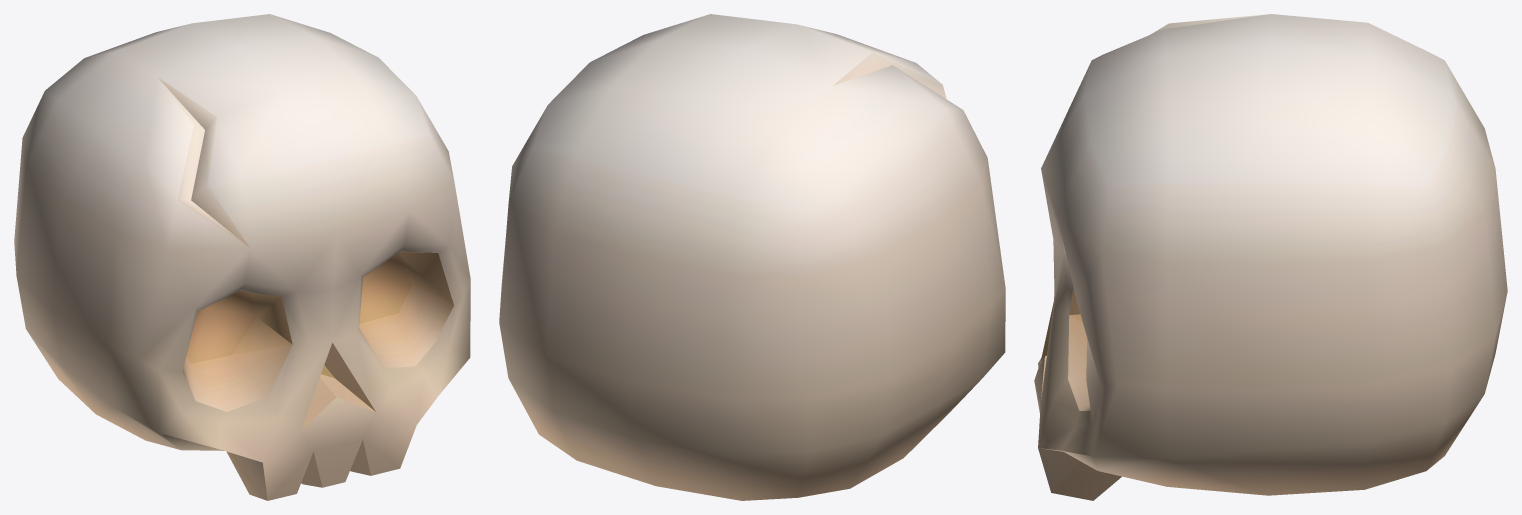
Rendered from skull.glb.
3 renders of one model, left to right at view 1: azimuth 30°, elevation 25°; view 2: azimuth 150°, elevation 25°; view 3: azimuth 270°, elevation 25°, orthographic. The views are drawn at different scales.
Parts seen in each view (by area): view 1: skull; view 2: skull; view 3: skull.
Boxes of the visible parts, x1,y1,x2,y2 form: skull: [14, 14, 470, 500]; skull: [499, 14, 1005, 500]; skull: [1034, 14, 1507, 500].
Bounding box in the file's own units: 0.9176 × 0.8982 × 0.9072.
1 material, 1 textured.
